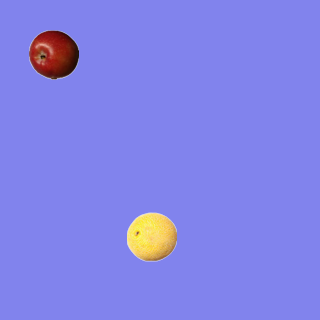Apple Braeburn: (28, 29, 78, 79)
Cantaloupe 1: (126, 211, 176, 261)
